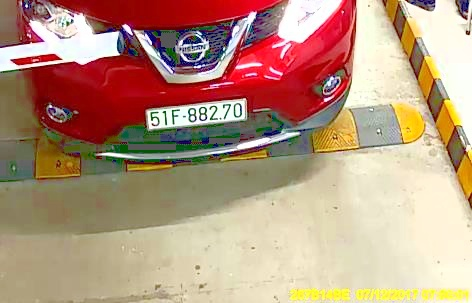plate: (141, 97, 255, 131)
